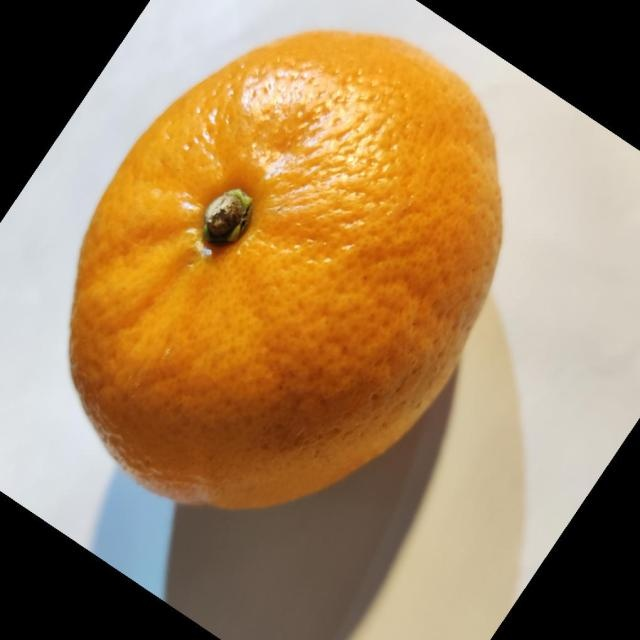agrume: (67, 27, 504, 510)
